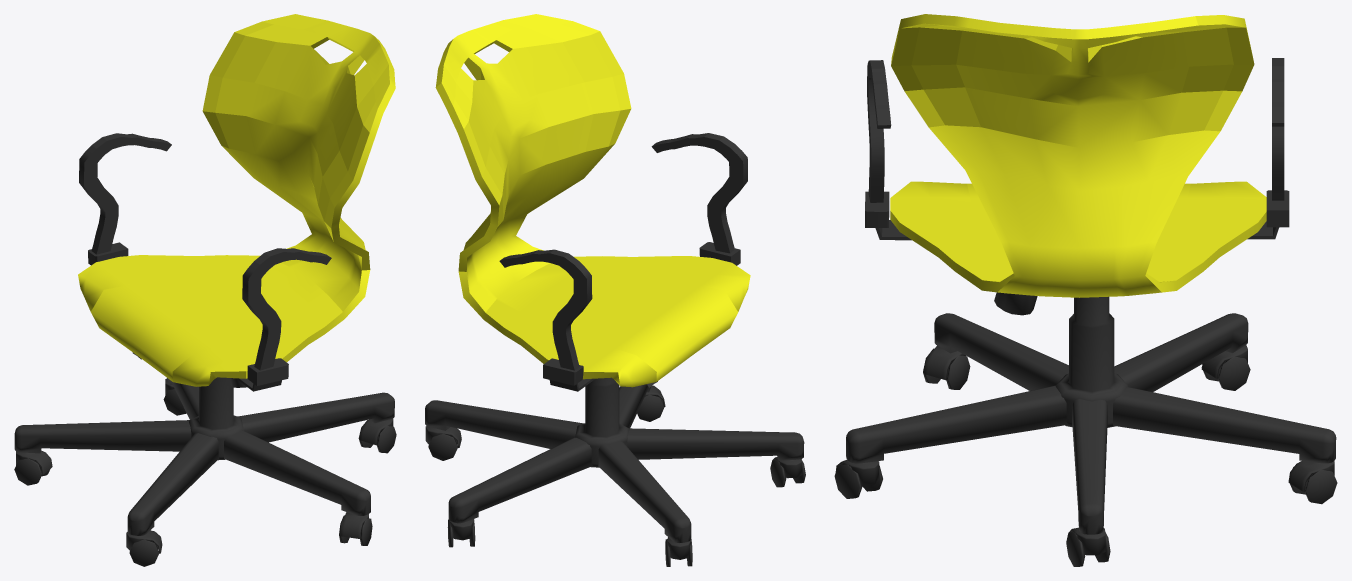
Rendered from Chair 1.fbx.
3 views of the same model, side by side, from view 1: azimuth 30°, elevation 25°; view 2: azimuth 150°, elevation 25°; view 3: azimuth 270°, elevation 25° (orthographic). The views are drawn at different scales.
Visible parts, largest first — view 1: CHAIR_B, pPlane3 (×2), Leg_LP2, Leg_LP5, Leg_LP4, Leg_LP1, Underside_LP, pCube2, Leg_LP3, pCylinder25, pCylinder29, pCylinder26 (+2 smaller); view 2: CHAIR_B, pPlane3 (×2), Leg_LP1, Leg_LP3, Leg_LP4, Leg_LP2, Underside_LP, pCube2 (×2), Leg_LP5, pCylinder26, pCylinder27; view 3: CHAIR_B, Leg_LP3, Leg_LP5, Underside_LP, Leg_LP1, Leg_LP2, pPlane3 (×2), Leg_LP4, pCube2 (×2), pCylinder28, pCylinder29, pCylinder27 (+4 smaller).
Part boxes in pixels (x1,y1,x2,y2): CHAIR_B: (78,14,395,386); pPlane3 (×2): (79,133,331,370); Leg_LP2: (14,420,191,453); Leg_LP5: (224,431,370,515); Leg_LP4: (238,392,394,442); Leg_LP1: (127,433,218,535); Underside_LP: (132,352,246,460); pCube2: (247,358,288,385); Leg_LP3: (167,378,198,419); pCylinder25: (129,539,159,566); pCylinder29: (14,458,50,485); pCylinder26: (358,420,396,453); CHAIR_B: (435,14,750,387); pPlane3 (×2): (499,133,747,370); Leg_LP1: (627,428,804,460); Leg_LP3: (448,437,592,523); Leg_LP4: (425,400,583,448); Leg_LP2: (598,441,691,542); Underside_LP: (575,377,657,467); pCube2 (×2): (543,242,740,385); Leg_LP5: (619,384,651,428); pCylinder26: (428,433,457,460); pCylinder27: (637,394,664,421); CHAIR_B: (890,14,1266,297); Leg_LP3: (1113,387,1336,463); Leg_LP5: (846,385,1068,463); Underside_LP: (994,292,1128,427); Leg_LP1: (934,313,1068,390); Leg_LP2: (1114,313,1248,391); pPlane3 (×2): (867,58,1284,202); Leg_LP4: (1072,399,1107,534); pCube2 (×2): (865,190,1289,227); pCylinder28: (1290,467,1337,504); pCylinder29: (1201,356,1250,390); pCylinder27: (834,464,882,498).
Bounding box in the file's own units: 9.58 × 11.91 × 10.25.
